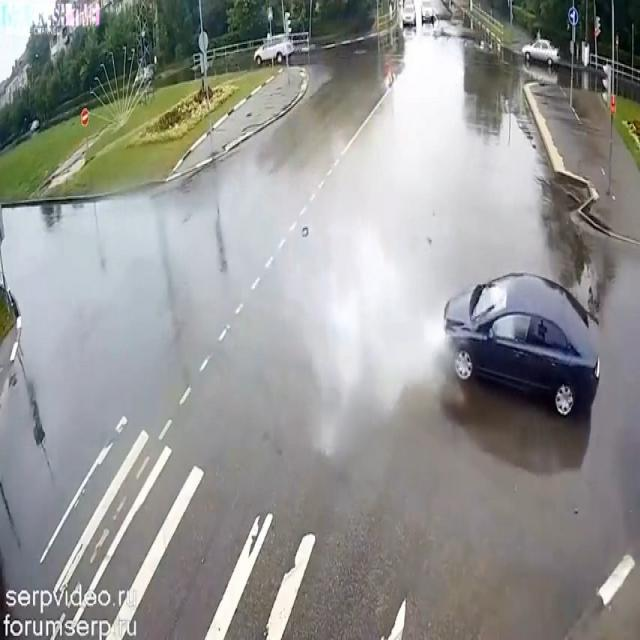Accident: (425, 252, 615, 455)
